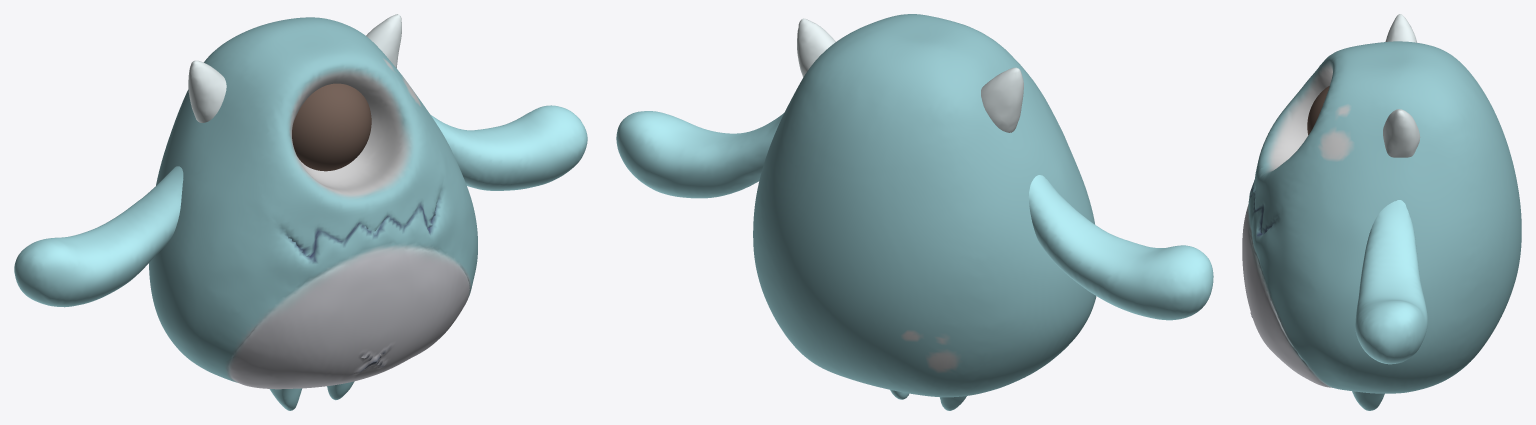
The model's file is cute_alien (1).glb.
3 views of the same model, side by side, from view 1: azimuth 30°, elevation 25°; view 2: azimuth 150°, elevation 25°; view 3: azimuth 270°, elevation 25° (orthographic). The views are drawn at different scales.
Visible parts, largest first — view 1: Object_13, Object_5, Object_3, Object_11, Object_9, Object_7; view 2: Object_13, Object_5, Object_3, Object_9; view 3: Object_13, Object_3, Object_9, Object_7, Object_11.
Part boxes in pixels (x1=…): Object_13: x1=149, y1=17, x2=477, y2=389; Object_5: x1=14, y1=166, x2=183, y2=307; Object_3: x1=431, y1=105, x2=587, y2=190; Object_11: x1=292, y1=83, x2=371, y2=171; Object_9: x1=188, y1=14, x2=401, y2=122; Object_7: x1=269, y1=381, x2=354, y2=410; Object_13: x1=753, y1=14, x2=1096, y2=397; Object_5: x1=1028, y1=175, x2=1213, y2=320; Object_3: x1=616, y1=111, x2=783, y2=198; Object_9: x1=797, y1=18, x2=1023, y2=132; Object_13: x1=1242, y1=41, x2=1521, y2=393; Object_3: x1=1355, y1=200, x2=1427, y2=364; Object_9: x1=1383, y1=14, x2=1420, y2=157; Object_7: x1=1352, y1=391, x2=1384, y2=410; Object_11: x1=1307, y1=86, x2=1329, y2=135.
Bounding box in the file's own units: 2.8 × 1.72 × 1.27.
